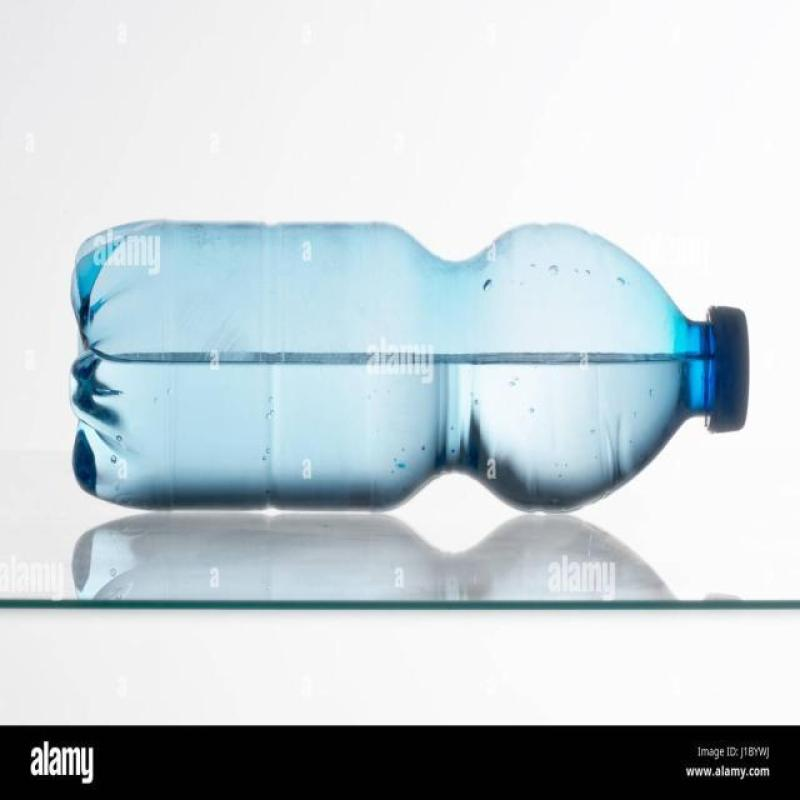botella: (63, 217, 752, 519)
